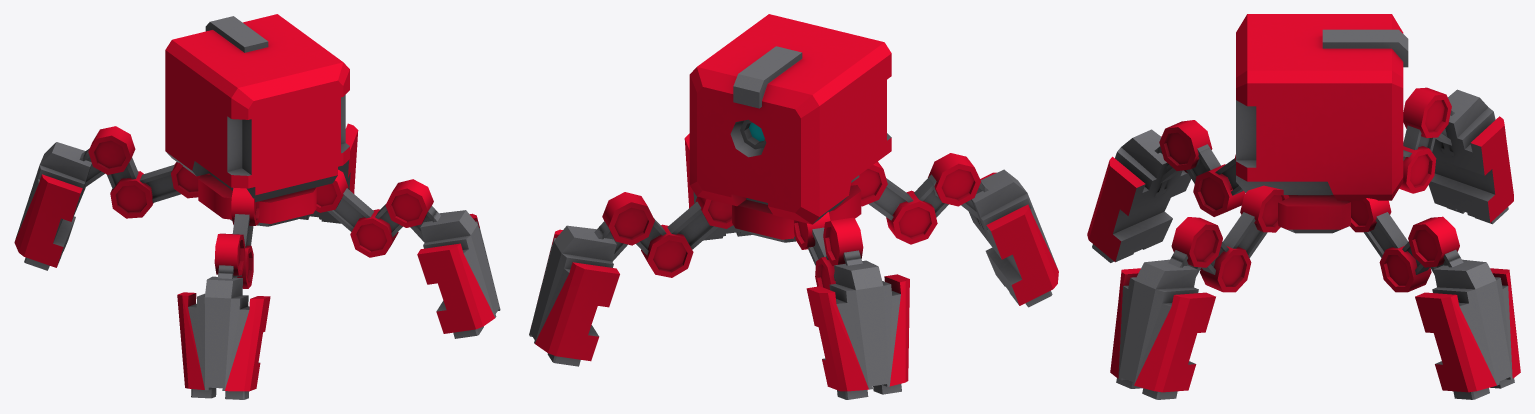
The model's file is Monster1_Move2.obj.
3 renders of one model, left to right at view 1: azimuth 30°, elevation 25°; view 2: azimuth 150°, elevation 25°; view 3: azimuth 270°, elevation 25°, orthographic. The views are drawn at different scales.
Visible parts, largest first — view 1: Box006, Object021, Object017, Object025, Object028, Object020, Object027, Object018, Object019, Object026, Object024, Object022 (+2 smaller); view 2: Box006, Object025, Object013, Object021, Object016, Object023, Object024, Object015, Object014, Object022, Object028, Object026 (+2 smaller); view 3: Box006, Object013, Object017, Object021, Object025, Object018, Object023, Object016, Object020, Object014, Object024, Object028 (+4 smaller).
Part boxes in pixels (box(x1,y1,x2,y2)): Box006: box(165, 14, 349, 226); Object021: box(177, 276, 270, 399); Object017: box(417, 210, 500, 338); Object025: box(14, 142, 91, 270); Object028: box(79, 126, 135, 187); Object020: box(385, 179, 440, 242); Object027: box(106, 157, 153, 218); Object018: box(315, 169, 374, 231); Object019: box(350, 204, 402, 257); Object026: box(139, 162, 210, 202); Object024: box(214, 233, 245, 278); Object022: box(231, 187, 259, 247); Box006: box(689, 14, 891, 242); Object025: box(806, 260, 909, 399); Object013: box(529, 225, 619, 366); Object021: box(969, 169, 1058, 307); Object016: box(594, 192, 654, 261); Object023: box(886, 174, 948, 244); Object024: box(928, 153, 988, 220); Object015: box(636, 218, 693, 277); Object014: box(667, 196, 732, 249); Object022: box(850, 161, 913, 220); Object028: box(823, 217, 863, 265); Object026: box(794, 212, 830, 265); Box006: box(1236, 14, 1408, 233); Object013: box(1415, 259, 1520, 399); Object017: box(1110, 259, 1215, 399); Object021: box(1087, 129, 1191, 262); Object025: box(1428, 89, 1513, 224); Object018: box(1223, 185, 1289, 258); Object023: box(1186, 144, 1245, 216); Object016: box(1408, 216, 1463, 274); Object020: box(1168, 217, 1222, 276); Object014: box(1347, 198, 1408, 257); Object024: box(1154, 120, 1212, 183); Object028: box(1403, 87, 1454, 145).
Bounding box in the file's own units: 150 × 111 × 153.
